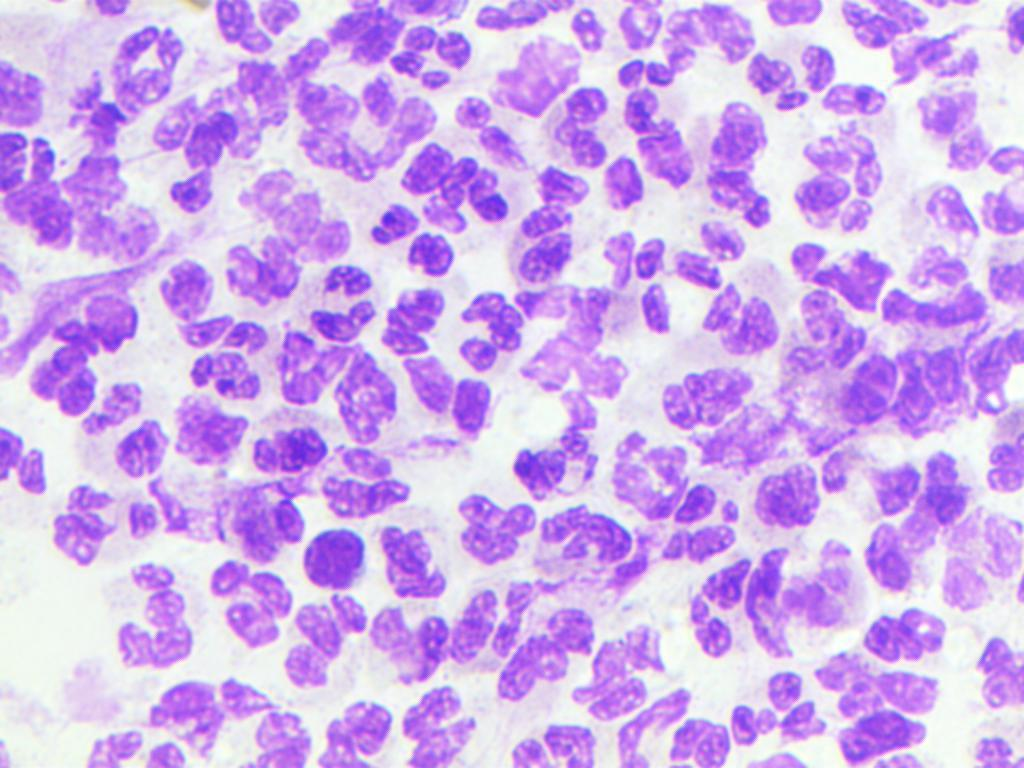artifact: (511, 281, 627, 431), (68, 82, 158, 261), (697, 377, 843, 474), (813, 650, 932, 768), (147, 683, 314, 764), (277, 329, 394, 443), (753, 533, 855, 656), (484, 31, 584, 123), (939, 509, 1024, 608), (129, 477, 233, 551), (367, 601, 451, 687), (167, 391, 247, 478), (308, 697, 398, 768), (612, 431, 682, 513), (974, 633, 1024, 703), (0, 62, 52, 128), (967, 728, 1024, 762)
lymphocyte: (304, 528, 368, 590)
neutrophil: (161, 52, 285, 213), (286, 72, 438, 180), (154, 256, 266, 402), (862, 442, 971, 588), (671, 212, 783, 353), (31, 294, 143, 421), (837, 344, 973, 438), (616, 0, 759, 89), (743, 44, 899, 117), (238, 169, 354, 267), (394, 134, 507, 234), (512, 161, 598, 290), (783, 228, 897, 322), (702, 98, 779, 235), (328, 0, 461, 78), (499, 604, 607, 700), (876, 241, 986, 334), (113, 557, 199, 673), (541, 504, 653, 593), (791, 128, 889, 228), (277, 592, 373, 692), (77, 379, 168, 479), (924, 144, 1024, 233), (757, 448, 865, 529), (574, 623, 664, 720), (207, 561, 297, 651), (604, 222, 672, 339), (618, 84, 697, 184), (1, 130, 69, 244), (454, 579, 546, 663), (114, 23, 196, 116), (398, 358, 491, 440), (318, 444, 414, 523), (784, 293, 873, 376), (449, 94, 537, 177), (403, 680, 486, 768), (729, 662, 819, 743), (653, 363, 757, 433), (506, 430, 604, 504), (371, 211, 462, 290), (913, 87, 993, 173), (663, 482, 751, 560), (449, 490, 536, 567), (376, 519, 454, 601), (387, 20, 474, 93), (51, 481, 123, 569), (456, 283, 525, 374), (697, 557, 753, 668), (212, 2, 311, 61), (223, 237, 302, 310), (556, 82, 615, 178), (307, 260, 375, 343), (232, 481, 303, 560), (383, 274, 452, 353), (894, 22, 981, 84), (496, 721, 604, 768), (81, 721, 188, 768), (969, 322, 1024, 413), (872, 603, 949, 664), (836, 2, 927, 50), (1, 422, 49, 509), (248, 430, 326, 481), (472, 0, 578, 33), (602, 148, 649, 217), (666, 718, 732, 767), (994, 421, 1024, 499), (572, 2, 611, 59), (993, 259, 1024, 321)
